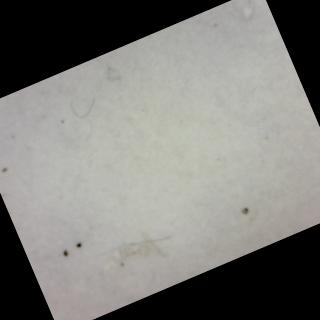Microplastic: (55, 79, 106, 128)
